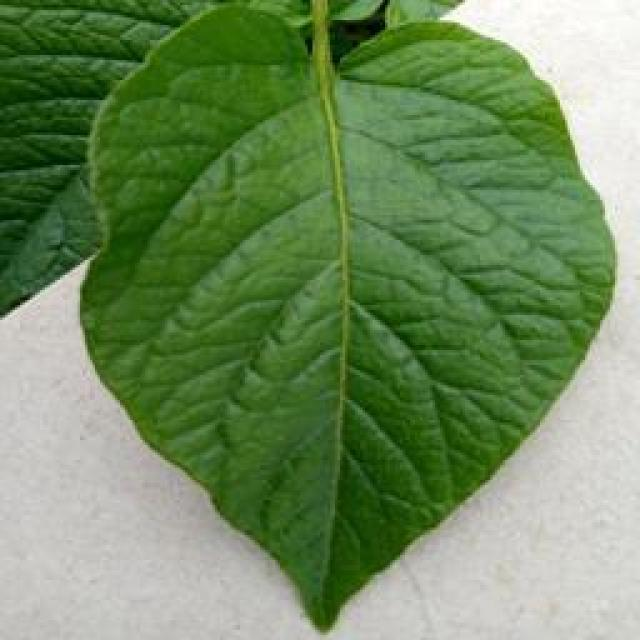healthy: (72, 0, 620, 635)
